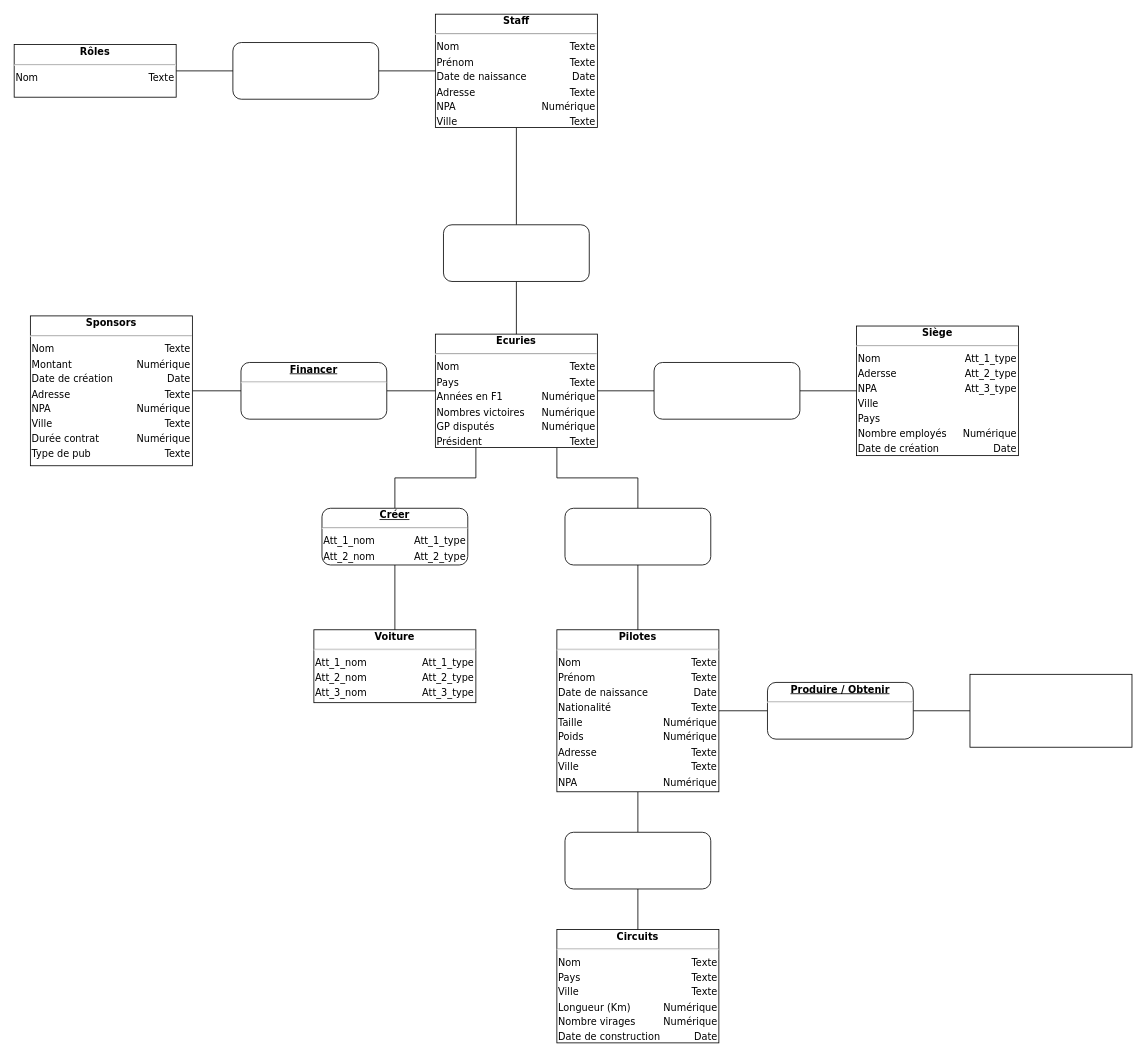
This 1146x1057 diagram has some shape labels left out. The shapes that lost their labels are listed below. From the top down, each one's centre as x and y in pixels, then its label:
At (305,70): "Avoir".
At (516,252): "Travailler".
At (726,390): "Diriger".
At (637,536): "Représenter".
At (1050,710): "Résultats Position Numérique Temps (h) Numérique Points Numérique".
At (637,860): "Courir".
